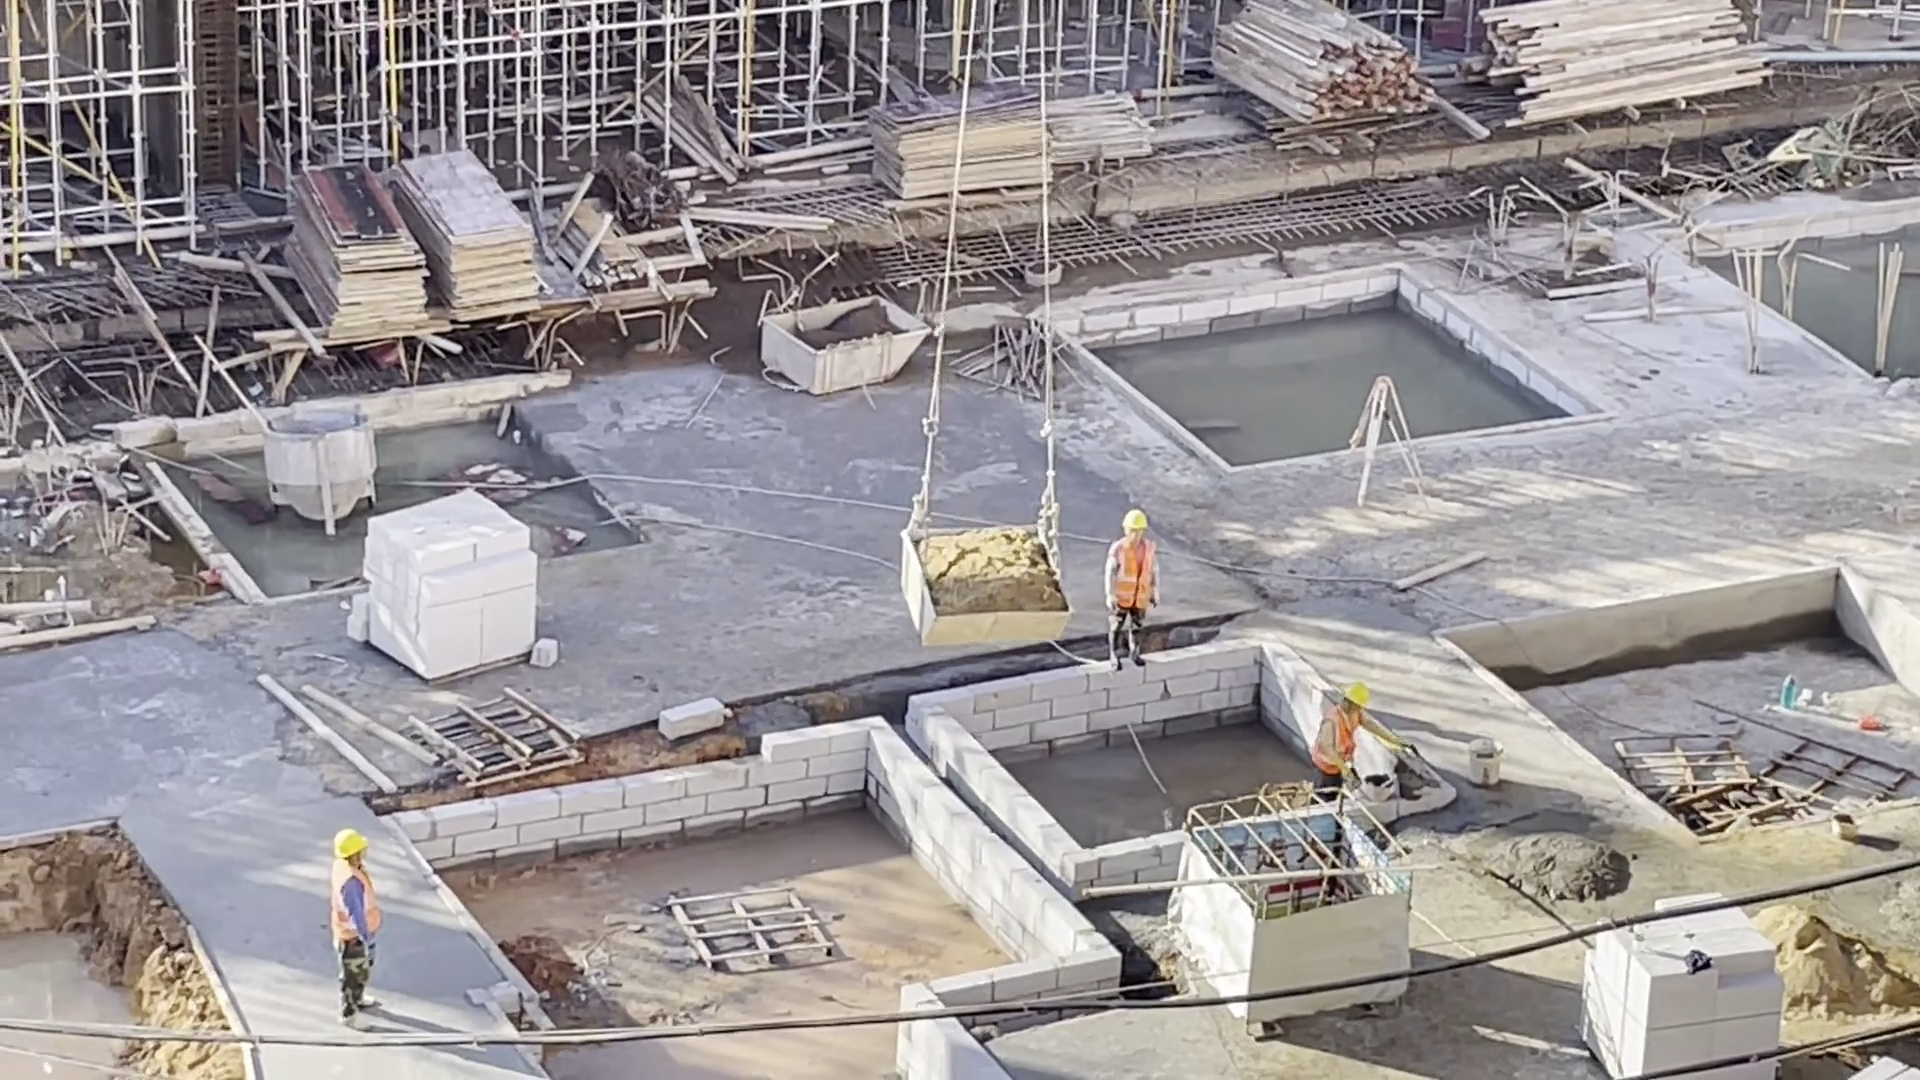board: (385, 143, 544, 322), (280, 160, 433, 346), (867, 79, 1055, 216)
brick: (341, 490, 560, 676), (1558, 927, 1790, 1054)
helmet: (332, 830, 372, 858), (1119, 503, 1150, 531), (1341, 681, 1372, 709)
hopper: (897, 519, 1071, 646), (755, 279, 934, 394), (259, 402, 382, 541)
person: (322, 828, 403, 1026), (1314, 680, 1411, 793), (1106, 506, 1169, 669)
vest: (332, 860, 386, 944), (1109, 536, 1159, 611), (1317, 705, 1359, 776)
wood: (1480, 1, 1782, 120), (1201, 4, 1436, 132)
